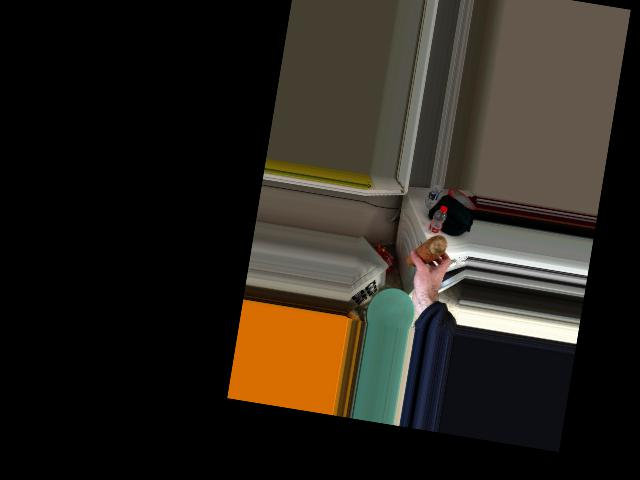sweet_potato: (402, 231, 451, 271)
